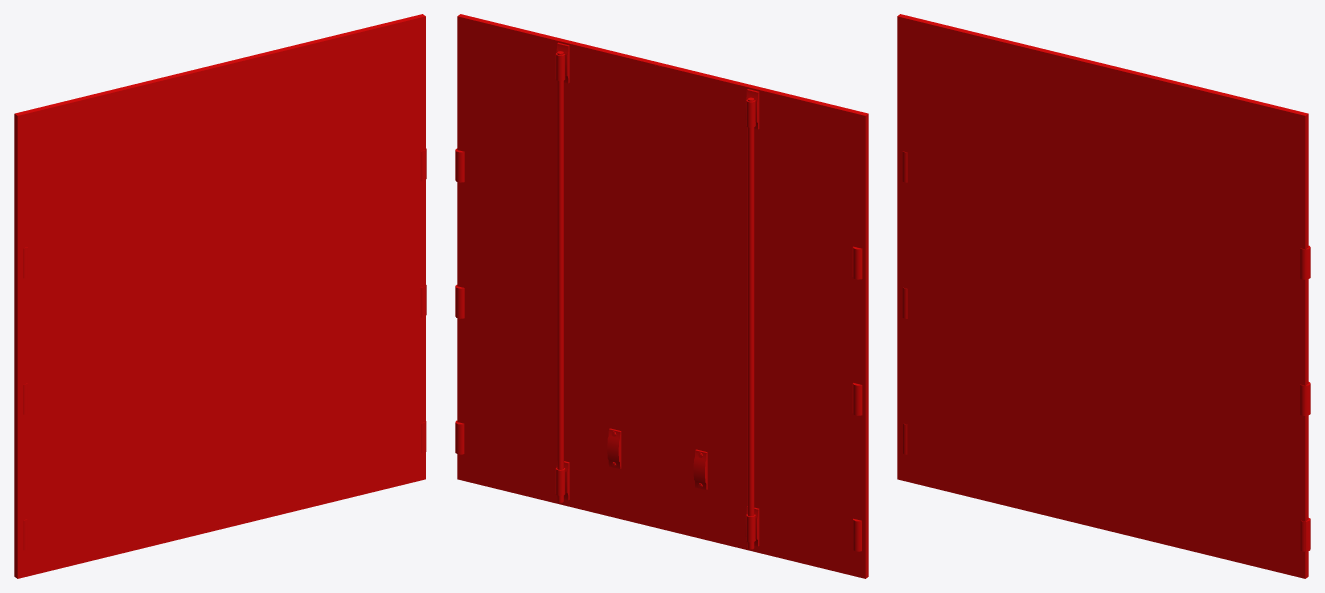
Rendered from Truck_Back_Door.fbx.
3 renders of one model, left to right at view 1: azimuth 30°, elevation 25°; view 2: azimuth 150°, elevation 25°; view 3: azimuth 330°, elevation 25°, orthographic.
Visible parts, largest first — view 1: Truck_Back_Door; view 2: Truck_Back_Door; view 3: Truck_Back_Door.
Part boxes in pixels (<box>): Truck_Back_Door: <box>14,14,426,578</box>; Truck_Back_Door: <box>455,14,868,578</box>; Truck_Back_Door: <box>897,14,1310,578</box>.
Bounding box in the file's own units: 296 × 319 × 11.25.
